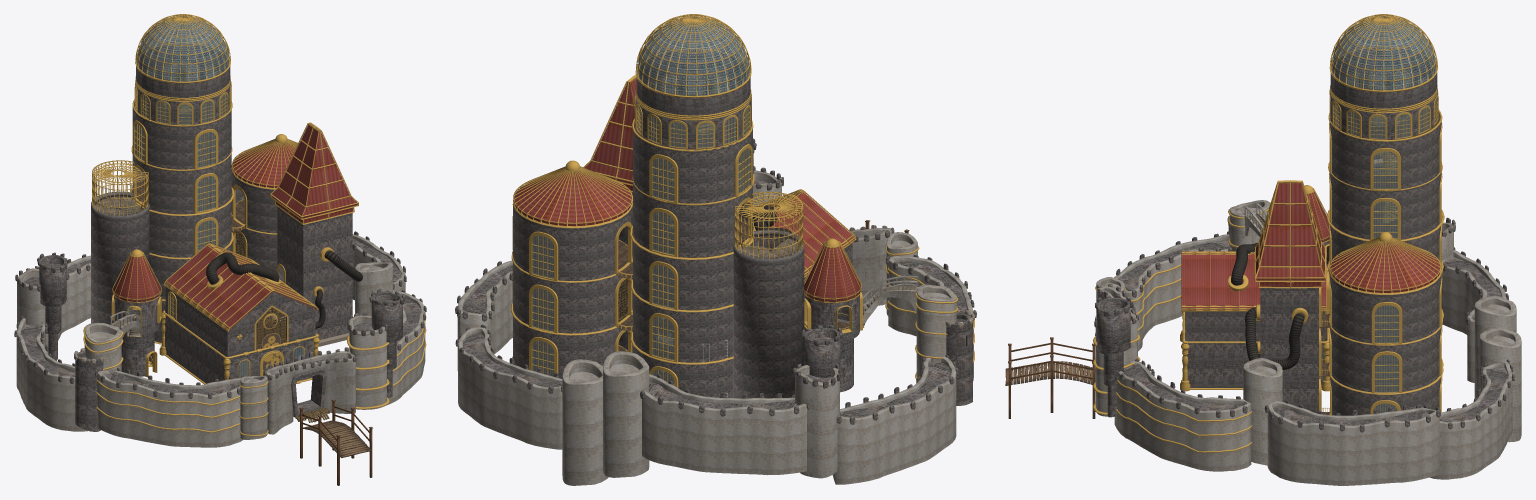
The model's file is level.gltf.
3 views of the same model, side by side, from view 1: azimuth 30°, elevation 25°; view 2: azimuth 150°, elevation 25°; view 3: azimuth 270°, elevation 25° (orthographic). The views are drawn at different scales.
Parts seen in each view (by area): view 1: wall02.005, Cylinder.014, wall02.006, tower02.003, Sphere.001, Cube.021, CastleRoofWalls.001, door2.002, tower02.001, Cylinder.026, Cylinder.021, Cube.042 (+40 smaller); view 2: wall02.004, Cylinder.014, wall02.006, wall02.003, Sphere.001, tower02.001, tower03.002, tower03.003, Cylinder.026, Cylinder.027, Cylinder.021, Cylinder.022 (+41 smaller); view 3: wall02.002, wall02.001, wall02.003, Sphere.001, Cube.021, wall02.005, Cylinder.027, Cylinder.021, Cylinder.026, Cylinder.007, tower02.003, Cylinder.022 (+30 smaller).
Part boxes in pixels (x1,y1,x2,y2): wall02.005: (95,368,243,447); Cylinder.014: (91,191,149,324); wall02.006: (14,315,87,431); tower02.003: (347,288,404,409); Sphere.001: (136,16,229,81); Cube.021: (271,124,357,223); CastleRoofWalls.001: (165,244,316,331); door2.002: (266,351,355,434); tower02.001: (15,252,67,360); Cylinder.026: (132,101,231,169); Cylinder.021: (132,145,231,213); Cube.042: (277,206,352,260); wall02.004: (640,374,809,475); Cylinder.014: (733,229,804,398); wall02.006: (832,355,958,484); wall02.003: (455,324,562,449); Sphere.001: (637,16,749,95); tower02.001: (793,324,842,478); tower03.002: (603,351,649,477); tower03.003: (562,359,608,485); Cylinder.026: (633,122,752,203); Cylinder.027: (513,204,632,280); Cylinder.021: (633,174,752,257); Cylinder.022: (514,171,631,225); wall02.002: (1264,400,1440,485); wall02.001: (1114,358,1252,471); wall02.003: (1430,359,1514,479); Sphere.001: (1332,16,1435,90); Cube.021: (1256,183,1324,286); wall02.005: (1114,231,1232,351); Cylinder.027: (1329,273,1441,343); Cylinder.021: (1329,172,1441,239); Cylinder.026: (1329,114,1441,188); Cylinder.007: (1329,327,1441,391); tower02.003: (1094,294,1139,417); Cylinder.022: (1330,242,1440,292).
Bounding box in the file's own units: 74.24 × 67.45 × 79.68.
